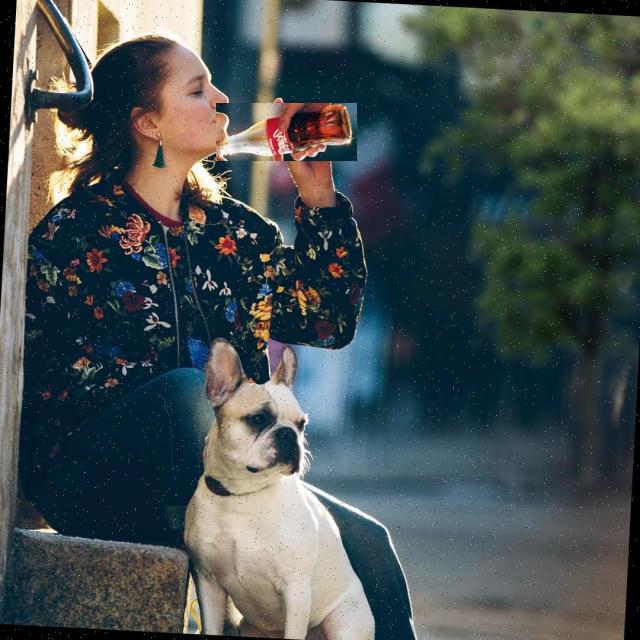coca-cola: (216, 104, 357, 162)
